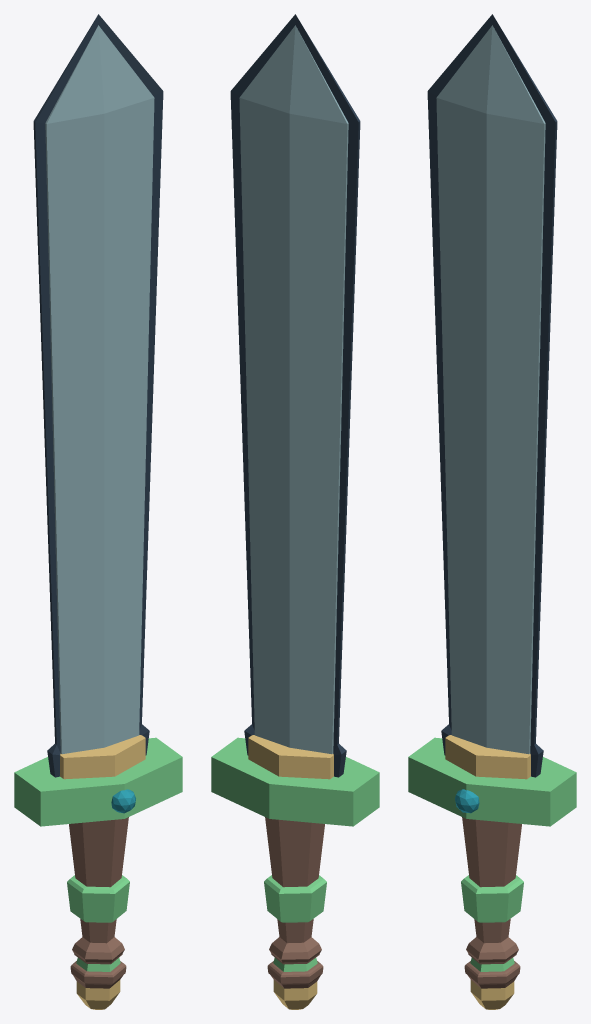
The model's file is Sword.glb.
The picture shows the model from 3 angles, left to right: view 1: azimuth 30°, elevation 25°; view 2: azimuth 150°, elevation 25°; view 3: azimuth 330°, elevation 25°; orthographic projection.
Parts seen in each view (by area): view 1: Cylinder; view 2: Cylinder; view 3: Cylinder.
Part boxes in pixels (bbox=[...]): Cylinder: bbox=[14, 14, 182, 1009]; Cylinder: bbox=[211, 14, 379, 1009]; Cylinder: bbox=[408, 14, 576, 1009].
Bounding box in the file's own units: 1.18 × 7.88 × 0.8257.
